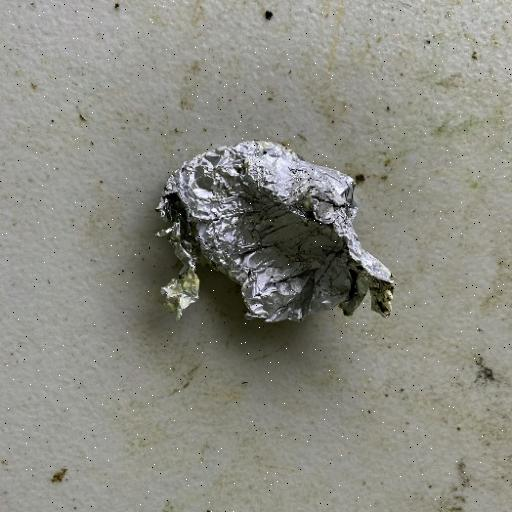Metal: (154, 137, 396, 327)
